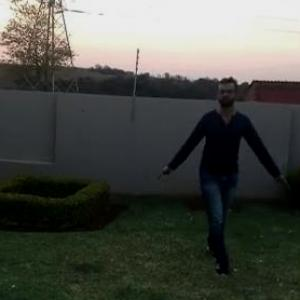land: (166, 69, 293, 281)
